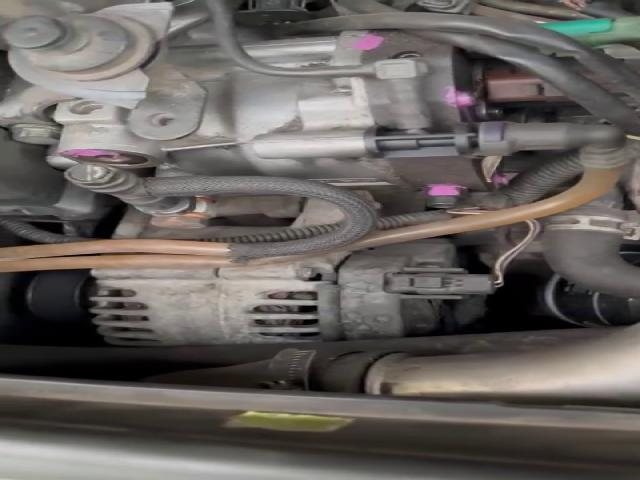alternator: (91, 235, 498, 346)
high_pressure_pump: (53, 28, 523, 209)
